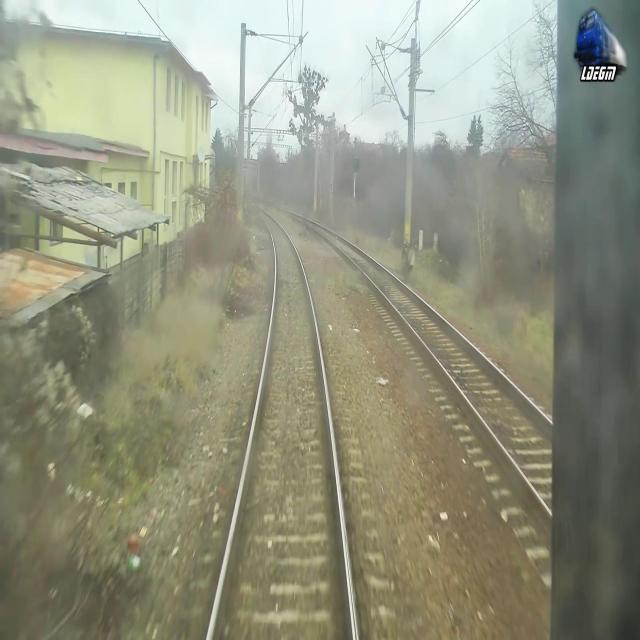rail-track: (211, 207, 353, 639)
